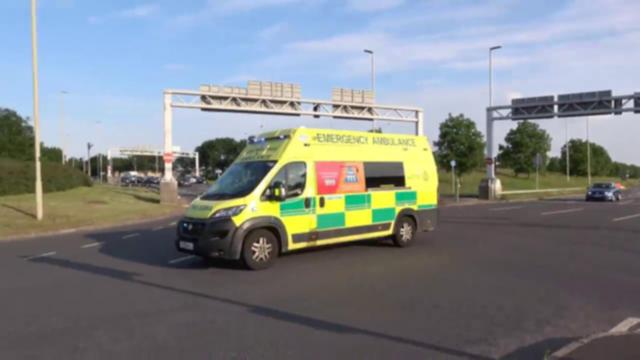police_car: (178, 131, 441, 260)
